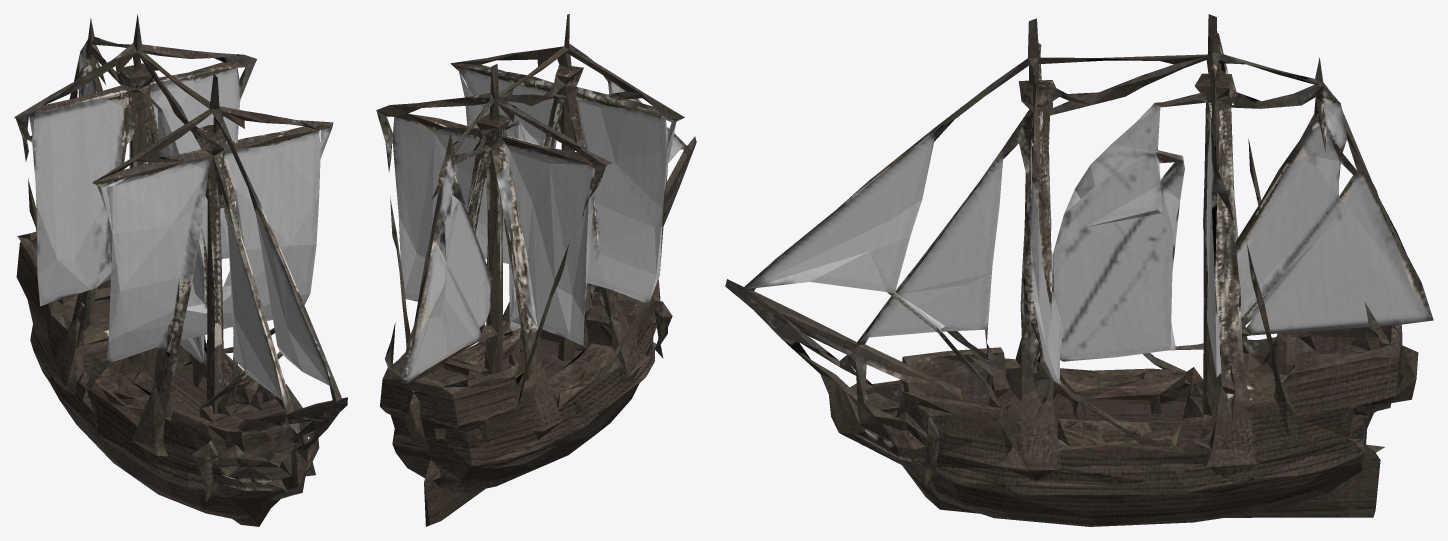
The model's file is realistic-cc0.c918d936e84f.sail.glb.
3 renders of one model, left to right at view 1: azimuth 30°, elevation 25°; view 2: azimuth 150°, elevation 25°; view 3: azimuth 270°, elevation 25°, orthographic. The views are drawn at different scales.
Parts seen in each view (by area): view 1: sail; view 2: sail; view 3: sail.
Boxes of the visible parts, x1=… form: sail: x1=14, y1=14, x2=347, y2=526; sail: x1=376, y1=14, x2=696, y2=526; sail: x1=725, y1=14, x2=1433, y2=526.
Bounding box in the file's own units: 10.17 × 17.2 × 22.
Materials: 2 (2 with a texture image).
